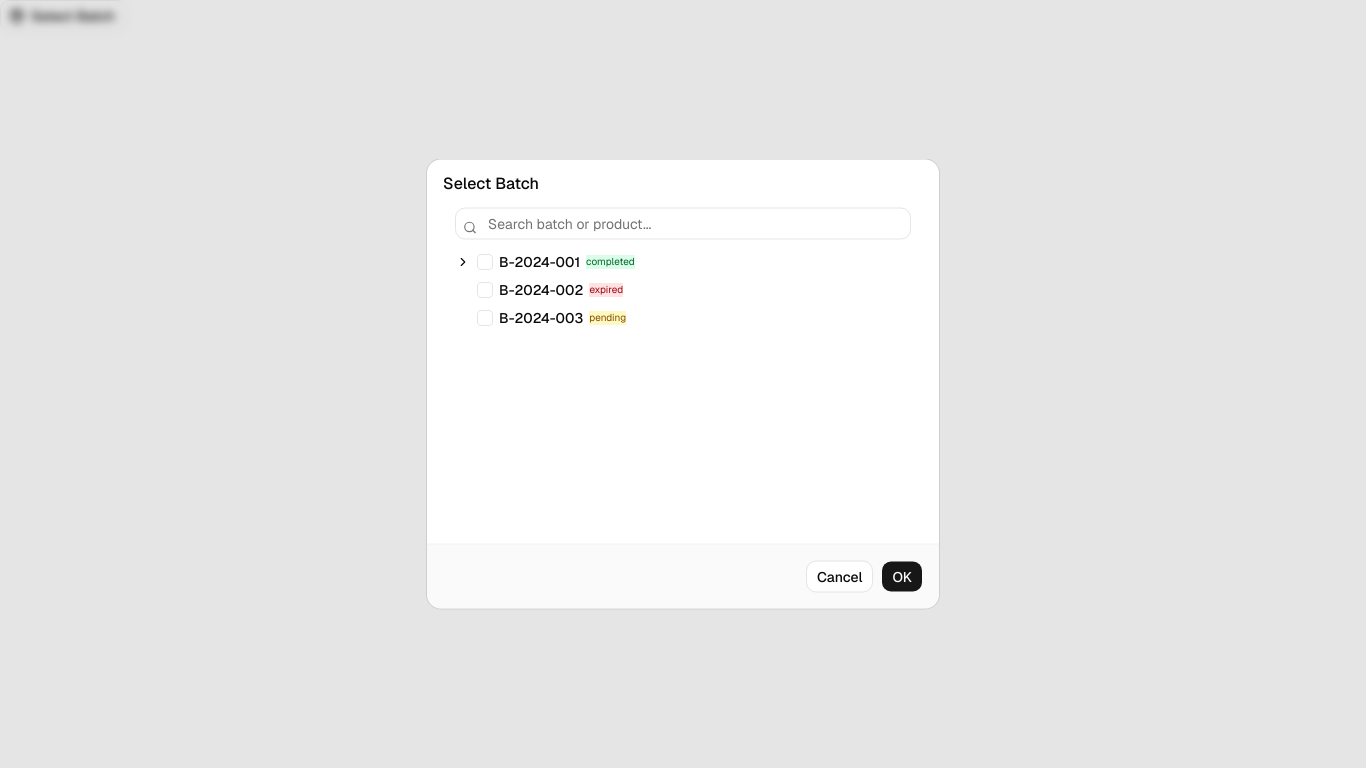
BatchSelector › expands tree nodes to show children
The width and height of the screenshot is (1366, 768).
expect the text "B-2024-001" is shown: met, box [499, 252, 580, 272]
What coordinates should you click on to do the following:
click the button named "Expand" next to "B-2024-001"
I would click on:
 (463, 262)
Its box is [455, 254, 471, 270].
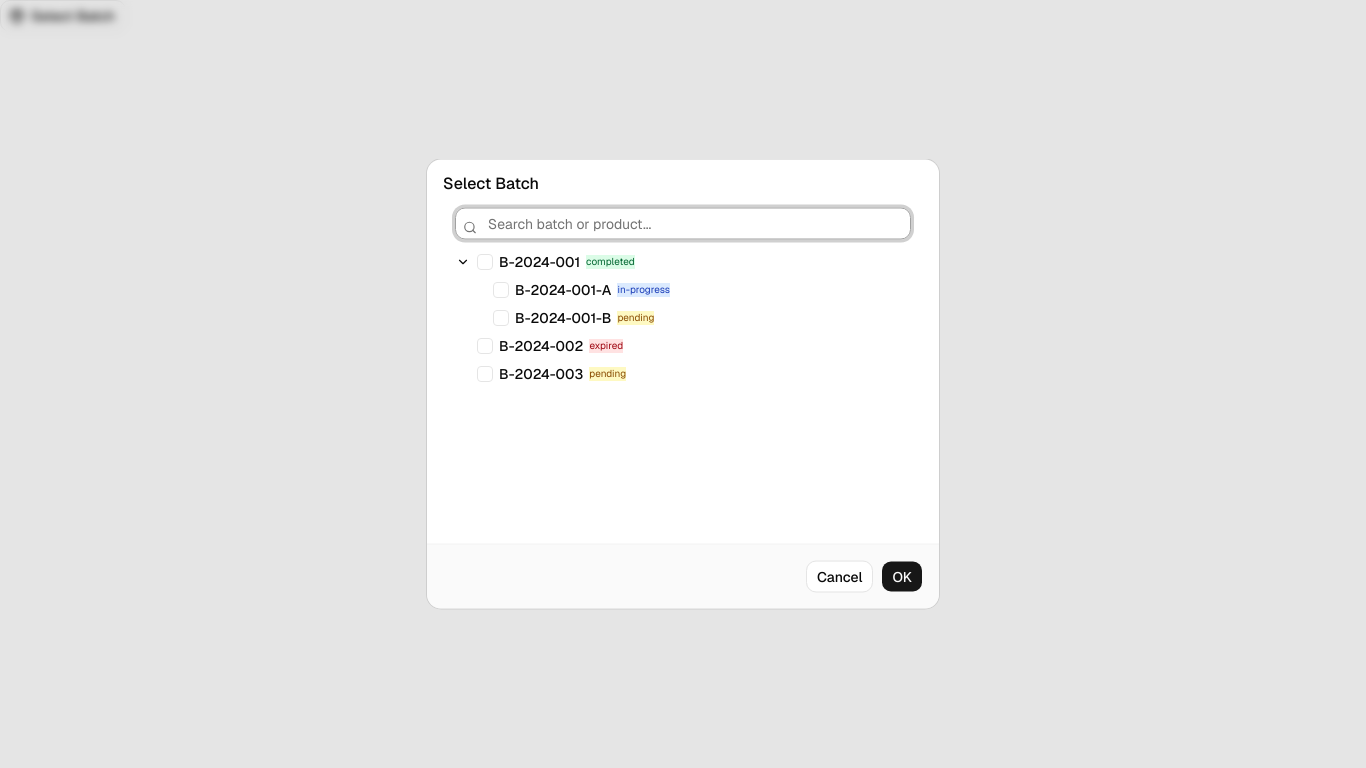
expect the text "B-2024-001-A" is shown: met, box [515, 280, 612, 300]
expect the text "B-2024-001-B" is shown: met, box [515, 308, 611, 328]
